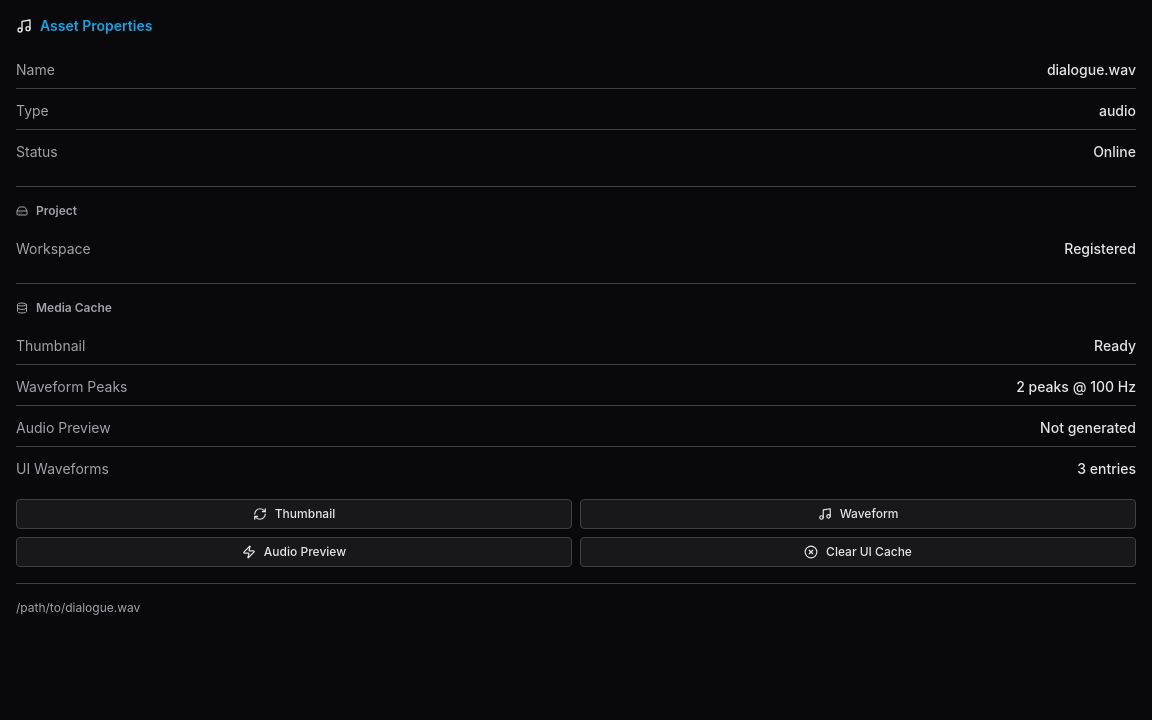
Test case: Inspector › exposes media cache status and cache generation controls for selected assets
Expected: the text with test id "asset-thumbnail-cache" reads "Ready", [1094,337,1136,354]
Expected: the text with test id "asset-waveform-cache" reads "2 peaks @ 100 Hz", [1016,378,1136,395]
Click the button with test id "asset-regenerate-thumbnail": (294, 514) [16,499,572,529]
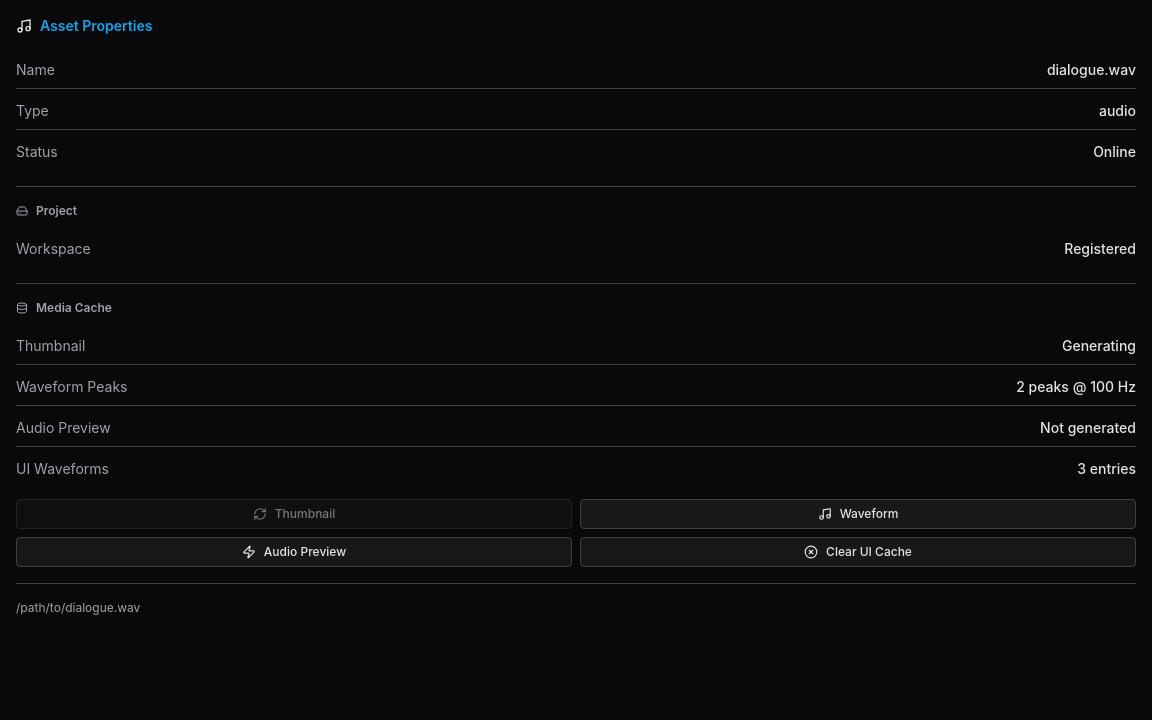
Click the button with test id "asset-generate-waveform": (858, 514) [580,499,1136,529]
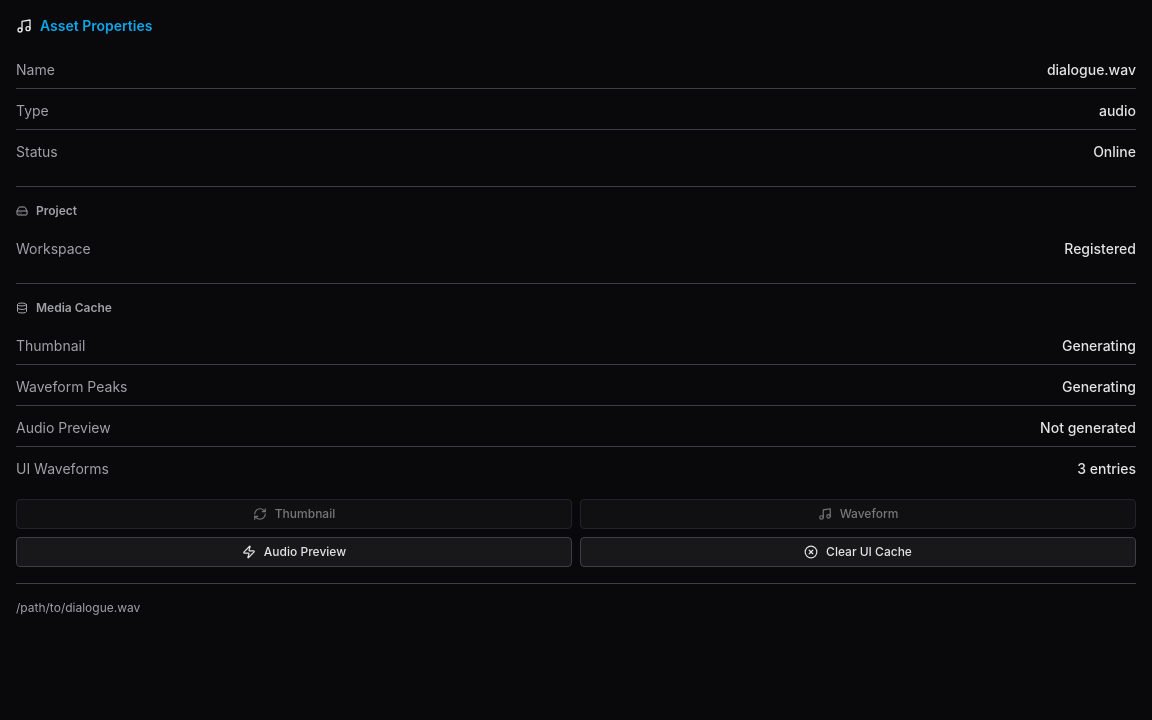
Click the button with test id "asset-ensure-audio-preview": (294, 552) [16,537,572,567]
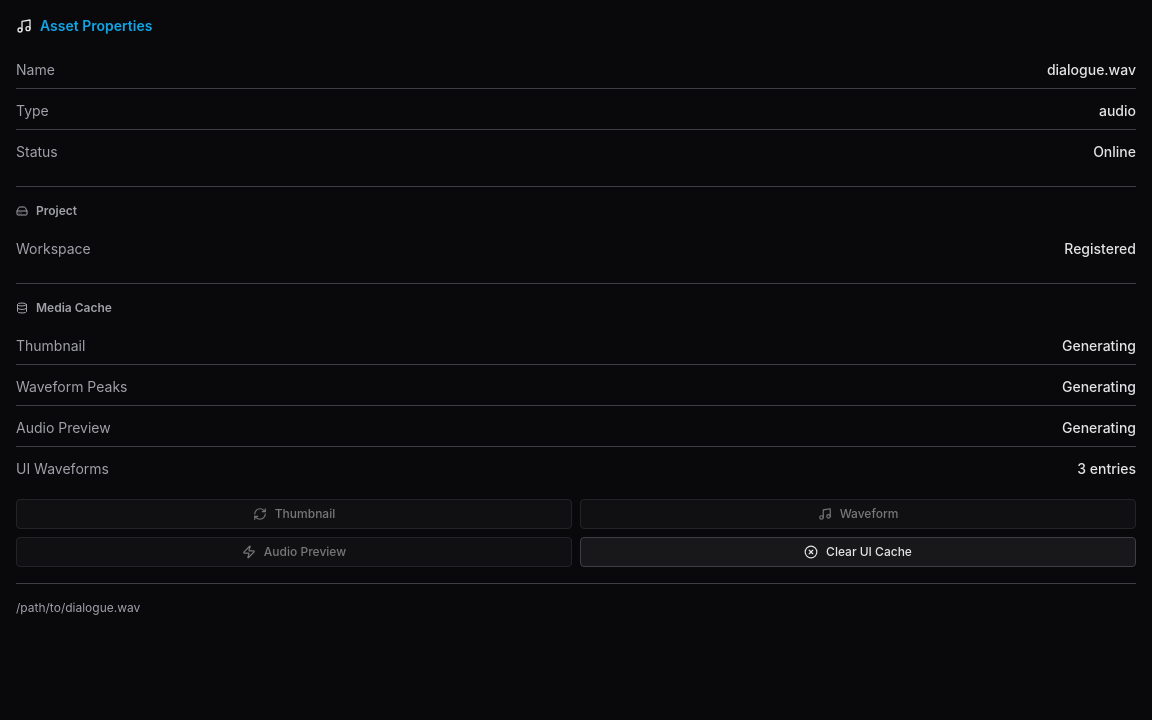
Click the button with test id "asset-clear-waveform-ui-cache": (858, 552) [580,537,1136,567]
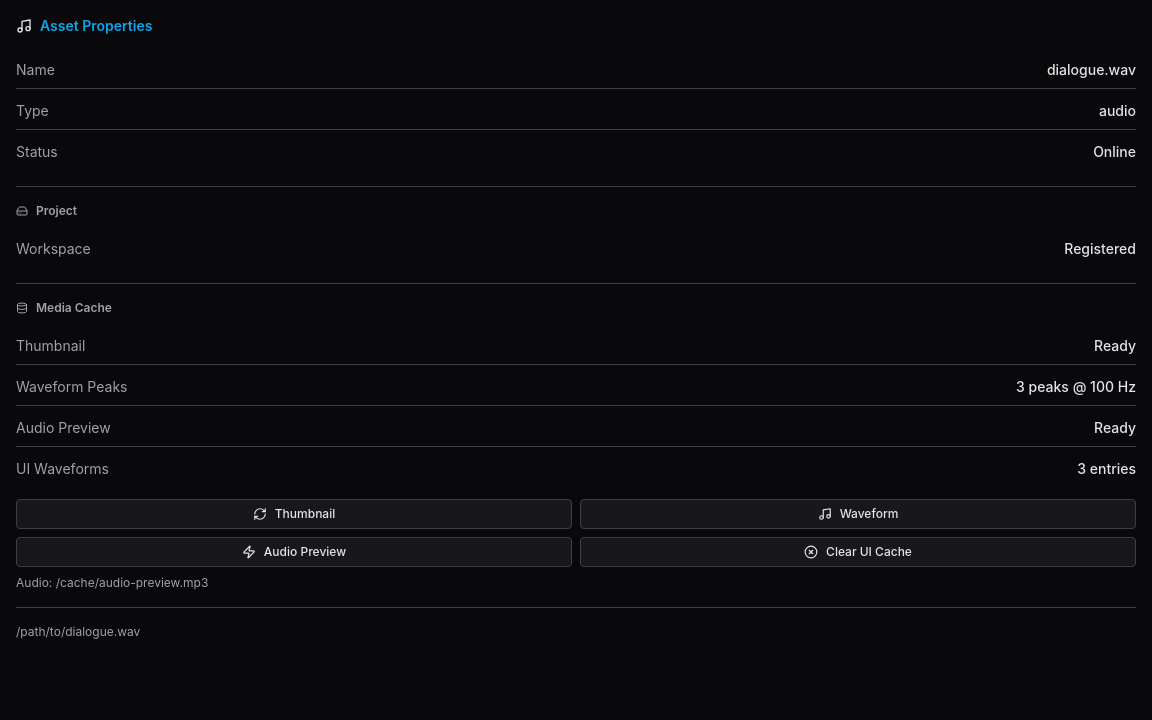
Expected: the text with test id "asset-waveform-cache" reads "3 peaks @ 100 Hz", [1016,378,1136,395]
Expected: the text with test id "asset-audio-preview-cache" reads "Ready", [1094,419,1136,436]
Expected: the text with test id "asset-audio-preview-url" shows "/cache/audio-preview.mp3", [56,575,208,590]
